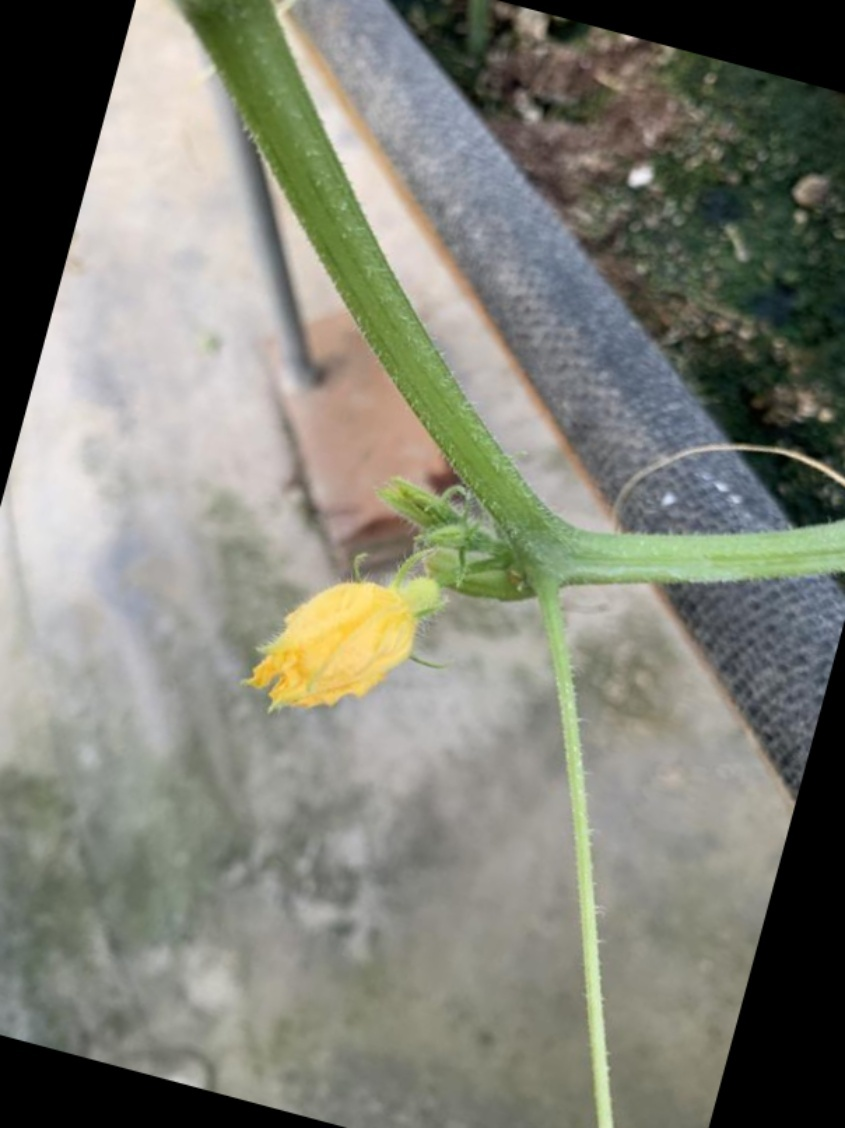bud: (222, 554, 454, 733)
